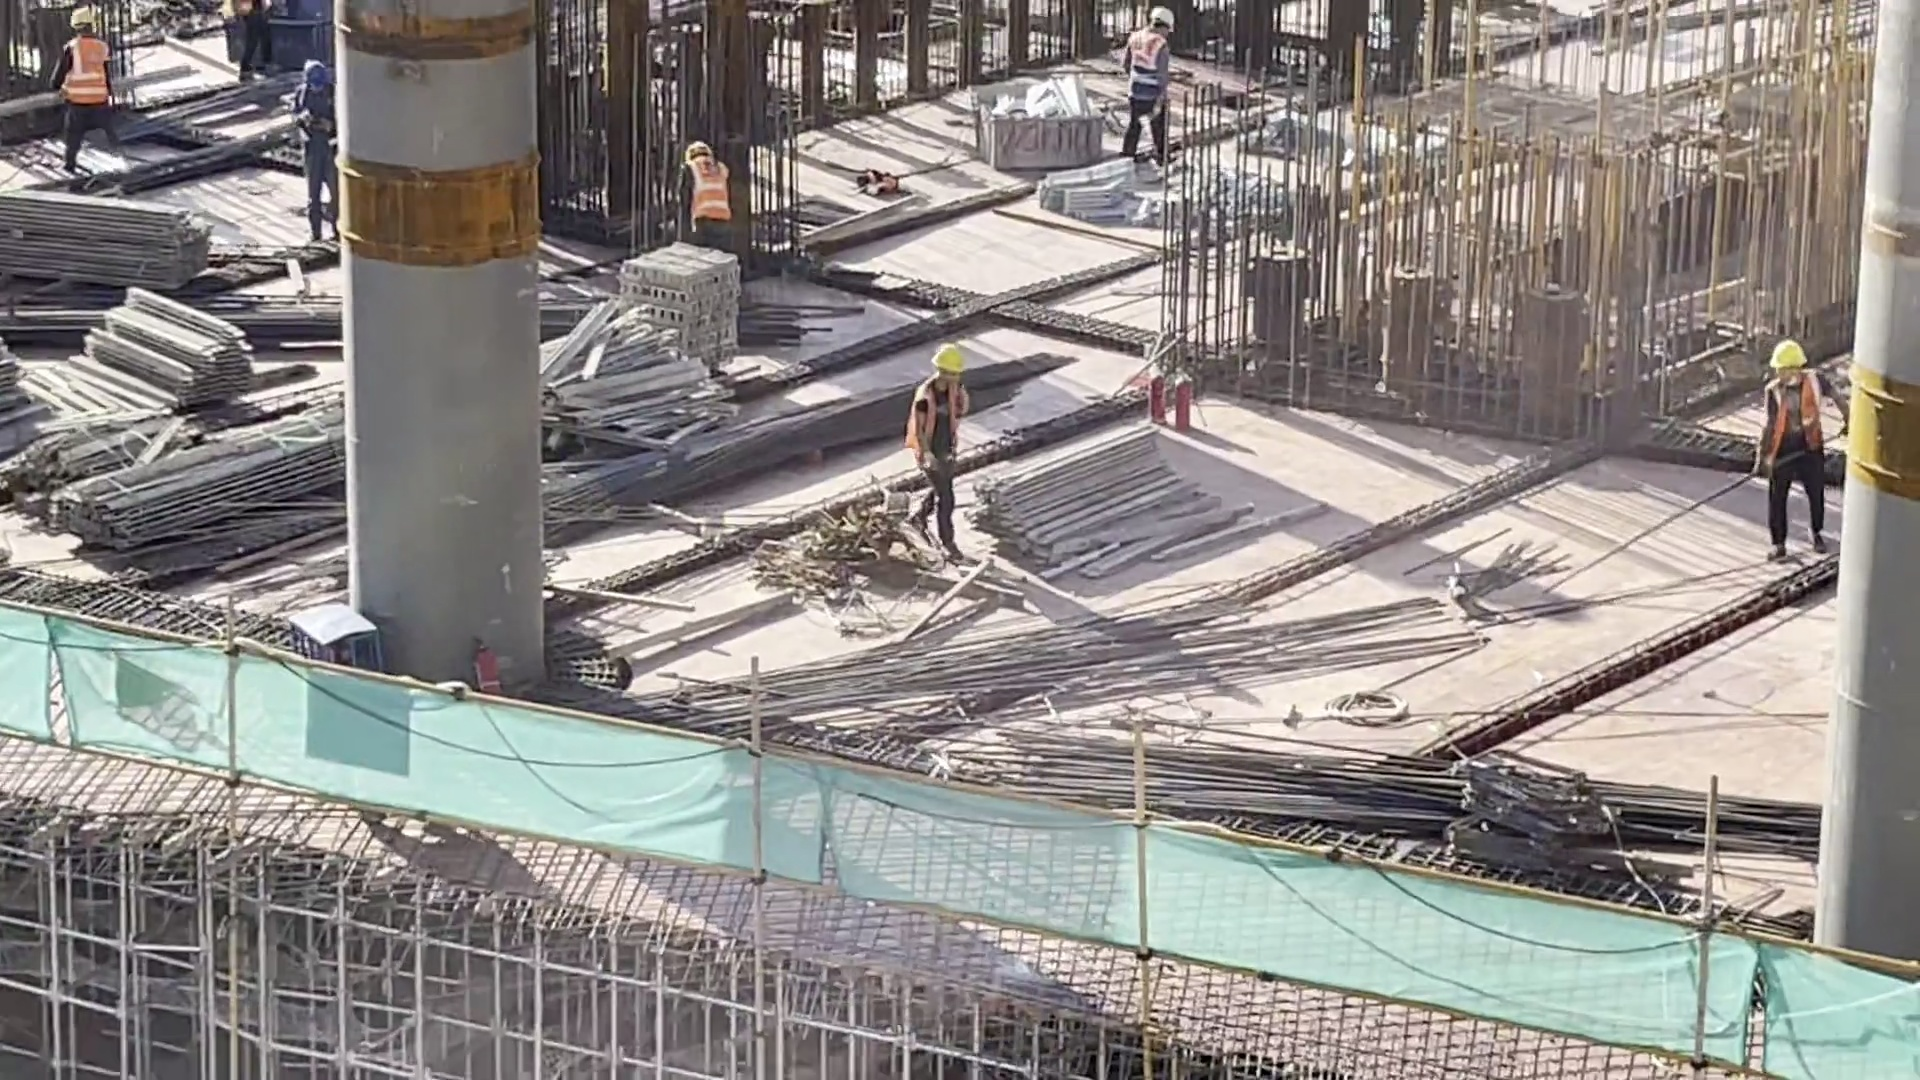helmet: (1767, 337, 1813, 379), (929, 342, 971, 378), (1139, 9, 1175, 42), (298, 55, 339, 81), (679, 130, 708, 159), (68, 7, 94, 30)
hopper: (969, 58, 1115, 186)
person: (1740, 324, 1847, 549), (896, 323, 974, 501), (289, 38, 349, 237), (1121, 2, 1180, 164), (47, 5, 115, 135), (677, 127, 734, 256)
vest: (1767, 385, 1827, 468), (911, 382, 964, 467), (59, 35, 118, 109), (1122, 26, 1165, 102), (686, 160, 734, 224), (294, 89, 342, 150)
wood: (58, 405, 367, 546), (966, 416, 1206, 572), (1, 175, 241, 305), (81, 275, 252, 428)
